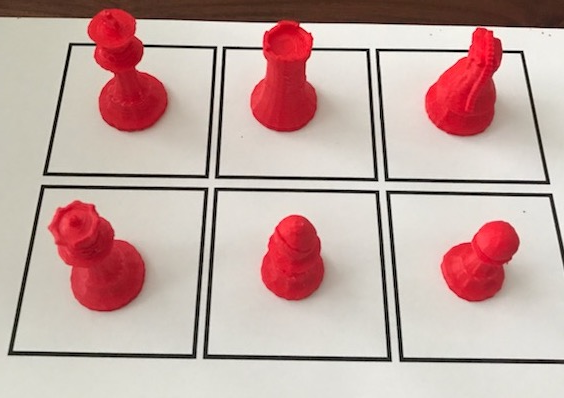Red Bishop: (252, 207, 335, 311)
Red Castle: (241, 17, 329, 141)
Red King: (80, 5, 186, 143)
Red Knight: (414, 26, 513, 144)
Red Pawn: (435, 215, 524, 306)
Red Queen: (42, 192, 154, 321)
